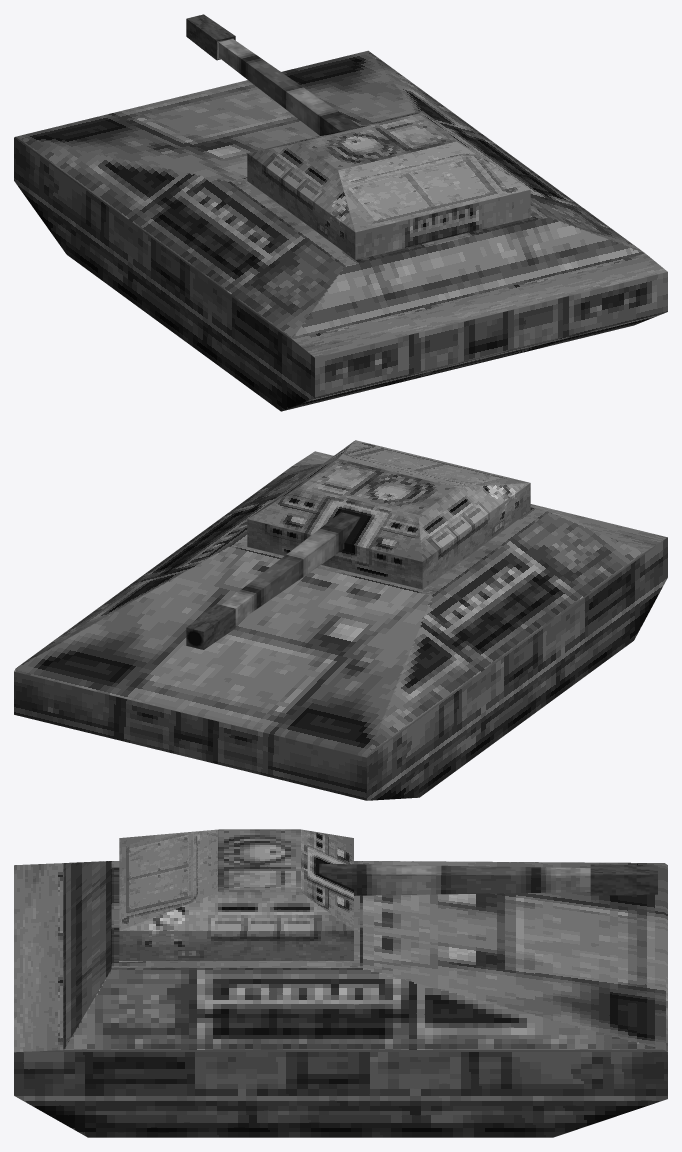
File: Vanguard.glb
3 renders of one model, top to bottom at view 1: azimuth 30°, elevation 25°; view 2: azimuth 150°, elevation 25°; view 3: azimuth 270°, elevation 25°, orthographic. The views are drawn at different scales.
Parts seen in each view (by area): view 1: Body, Turret, Barrel; view 2: Body, Turret, Barrel; view 3: Body, Turret, Barrel.
Part boxes in pixels (bbox=[...]): Body: bbox=[14, 50, 667, 411]; Turret: bbox=[247, 110, 530, 259]; Barrel: bbox=[186, 14, 360, 135]; Body: bbox=[14, 451, 667, 800]; Turret: bbox=[247, 440, 530, 589]; Barrel: bbox=[186, 512, 360, 649]; Body: bbox=[14, 861, 667, 1137]; Turret: bbox=[119, 829, 353, 960]; Barrel: bbox=[319, 863, 657, 895].
Size of the model in its own units: 1.08 by 0.4924 by 1.59.
3 materials, 3 textured.
